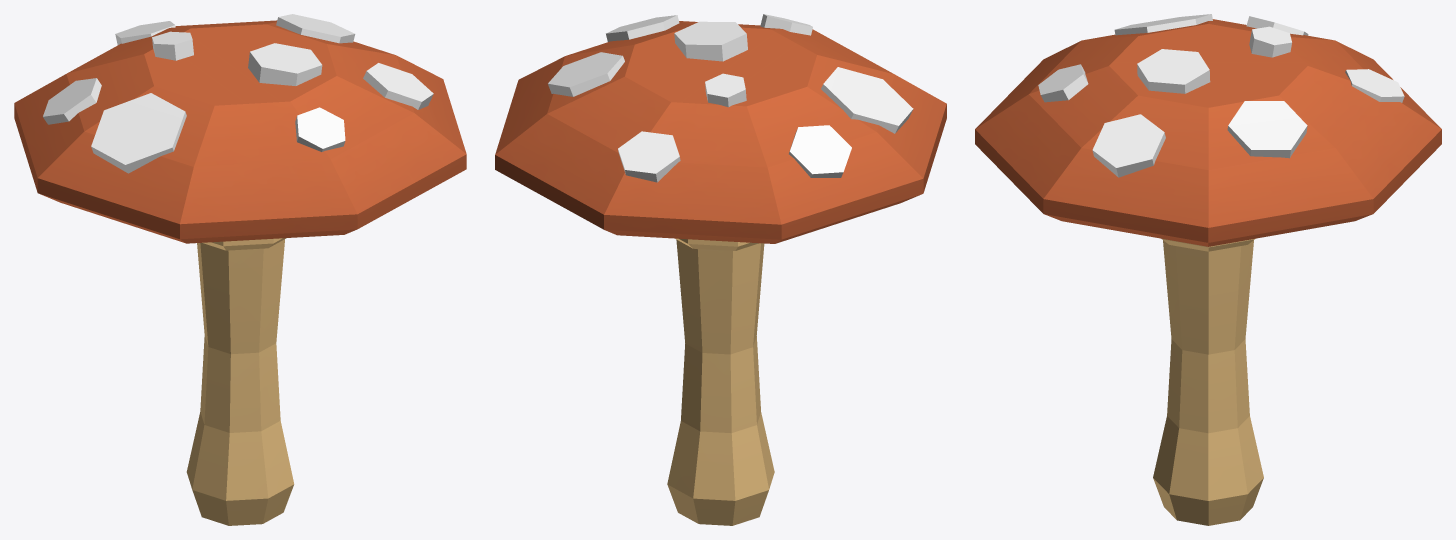
The model's file is Mushroom001.fbx.
The picture shows the model from 3 angles, left to right: view 1: azimuth 30°, elevation 25°; view 2: azimuth 150°, elevation 25°; view 3: azimuth 270°, elevation 25°; orthographic projection.
Parts seen in each view (by area): view 1: Cylinder.012; view 2: Cylinder.012; view 3: Cylinder.012.
Boxes of the visible parts, x1=… form: Cylinder.012: x1=14, y1=14, x2=466, y2=525; Cylinder.012: x1=495, y1=14, x2=946, y2=525; Cylinder.012: x1=975, y1=14, x2=1441, y2=525.
Size of the model in its own units: 51.72 by 55.89 by 51.72.
